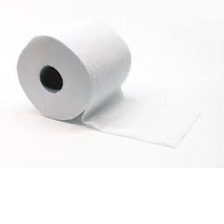tissue: (12, 20, 207, 151)
